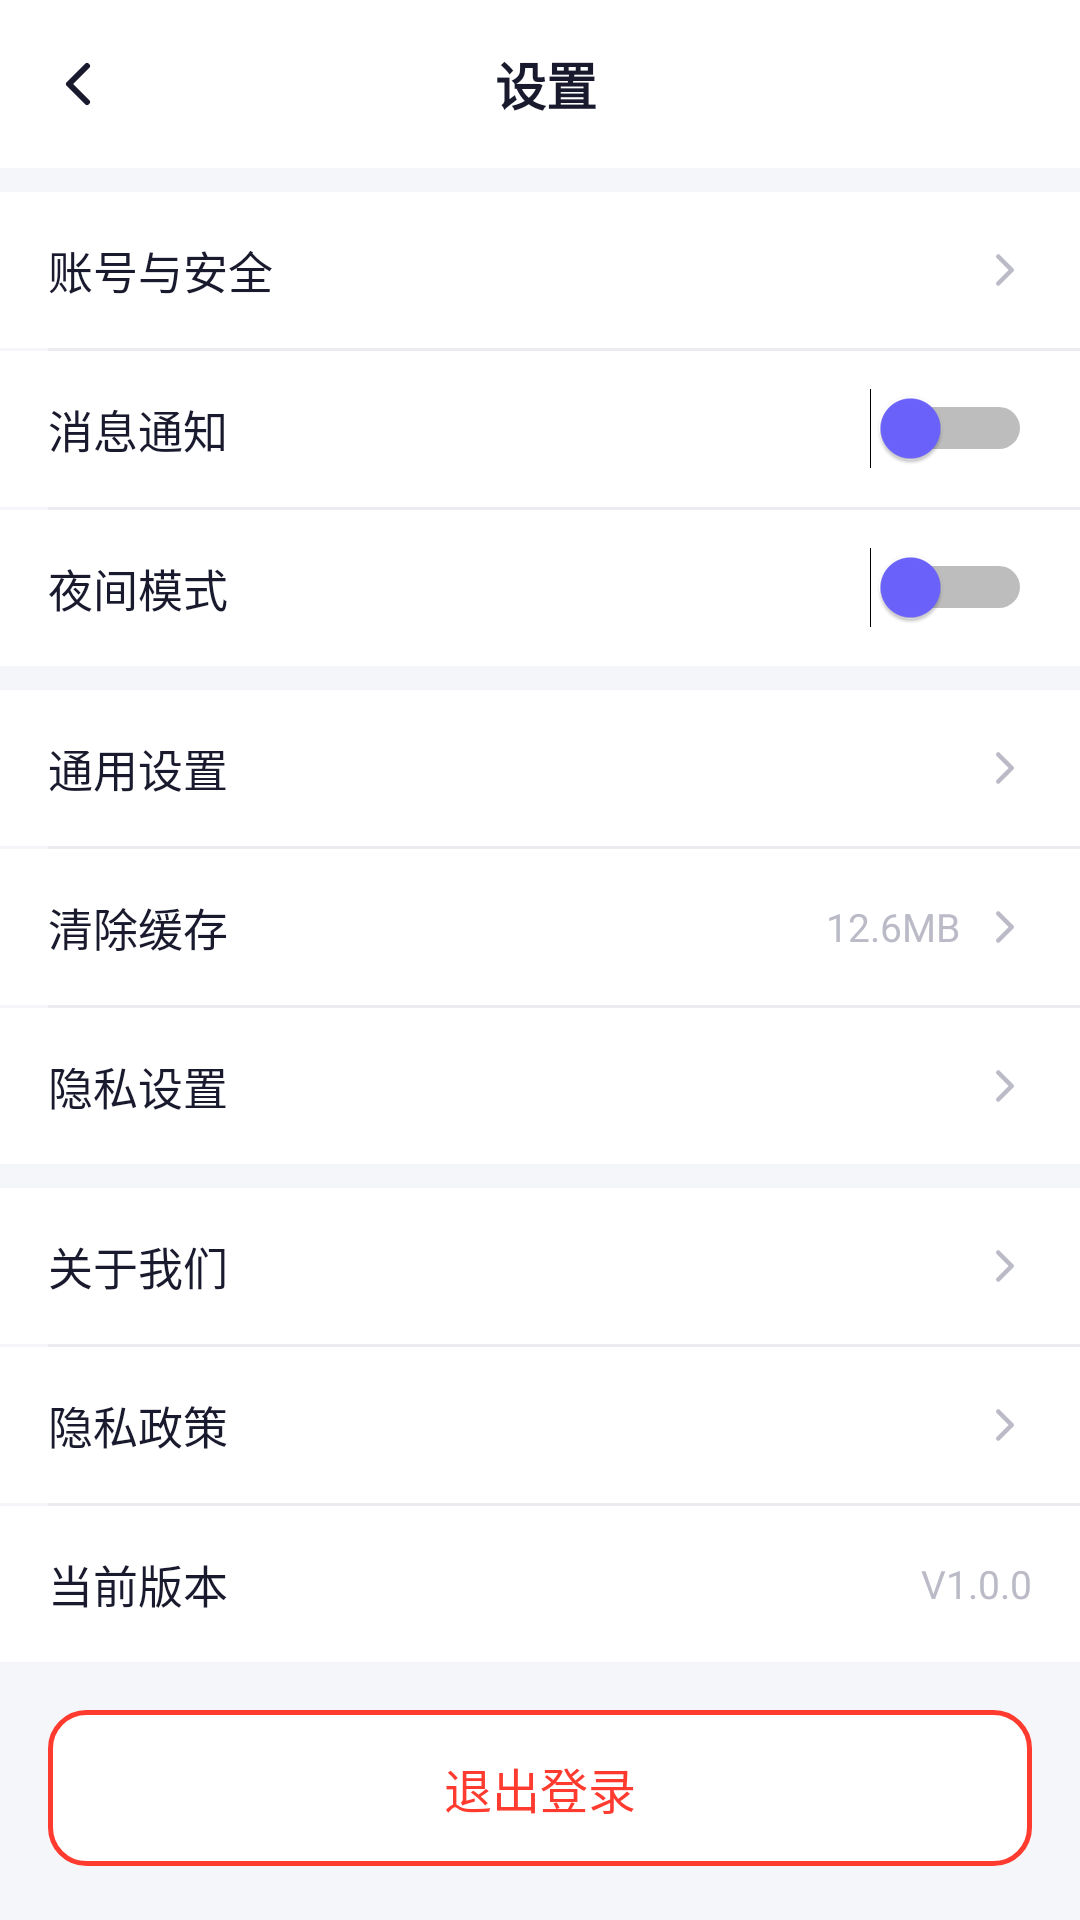

Screen size 1080 x 1920. Icon name, then its center in pixels as (x=x, y=y):
arrow right: (x=1005, y=270), (x=1005, y=768), (x=1005, y=927), (x=1005, y=1086), (x=1005, y=1266), (x=1005, y=1425)
back: (x=78, y=84)
